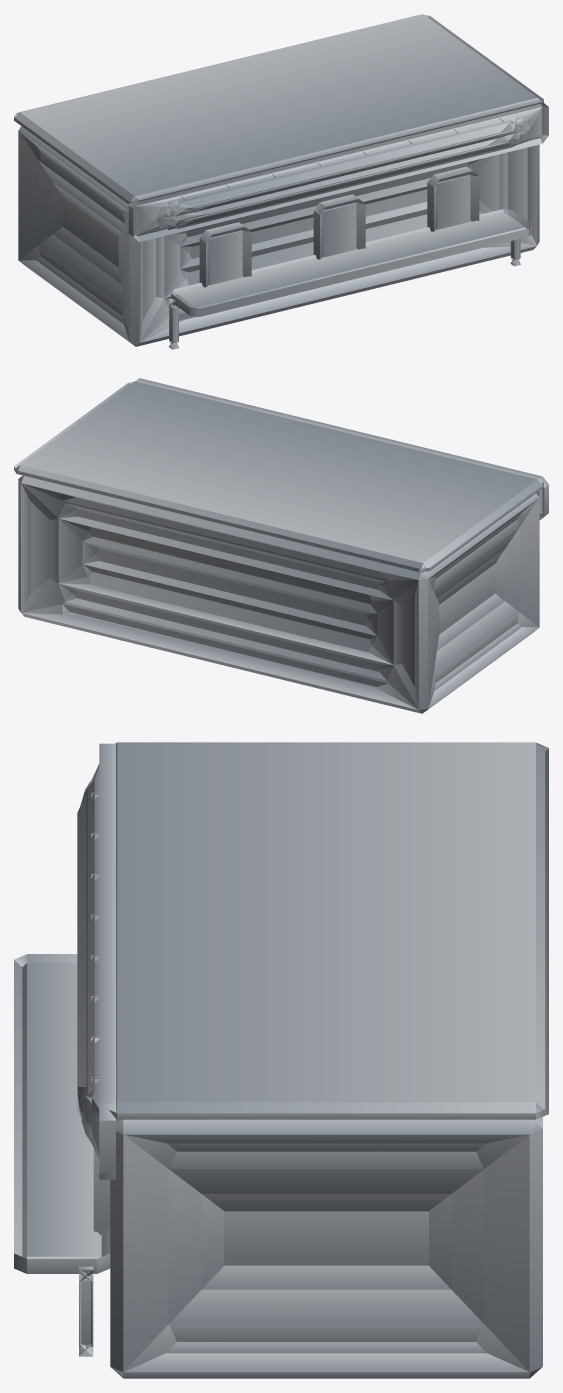
The model's file is dt_cinema.fbx.
The picture shows the model from 3 angles, top to bottom: view 1: azimuth 30°, elevation 25°; view 2: azimuth 150°, elevation 25°; view 3: azimuth 270°, elevation 25°; orthographic projection. The views are drawn at different scales.
Parts seen in each view (by area): view 1: dt_cinema; view 2: dt_cinema; view 3: dt_cinema.
Boxes of the visible parts, <box> form: dt_cinema: <box>14,14,548,349</box>; dt_cinema: <box>14,378,548,713</box>; dt_cinema: <box>14,742,548,1378</box>.
Bounding box in the file's own units: 3600 × 1262 × 2195.
